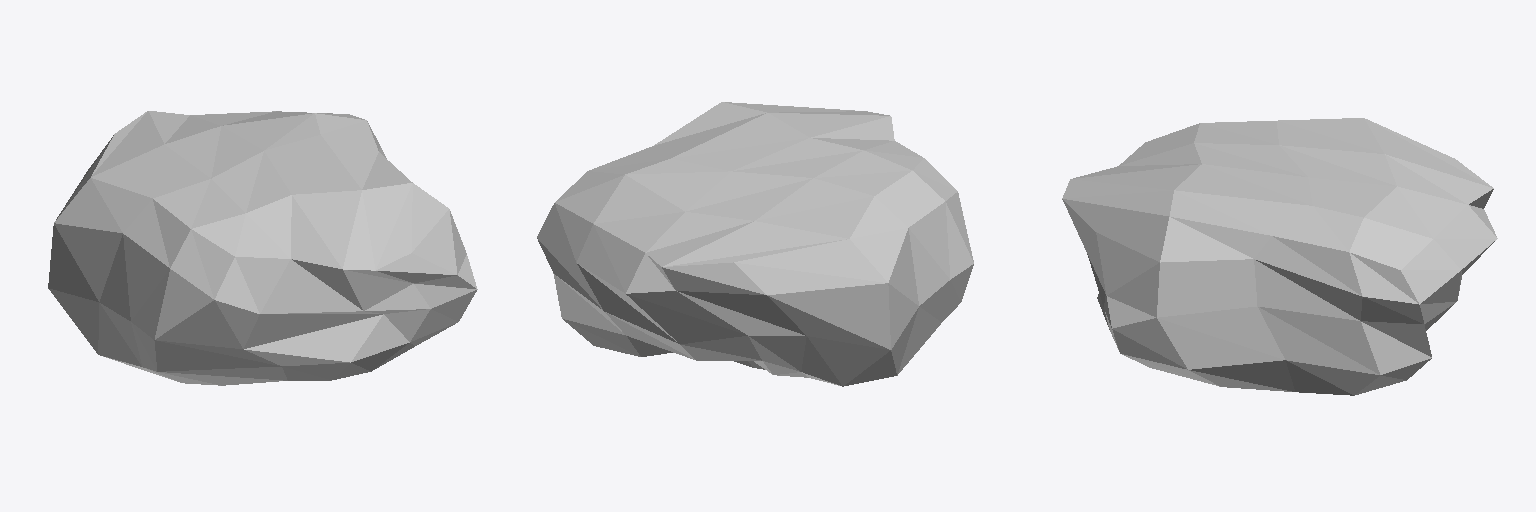
Rendered from rock.obj.
3 renders of one model, left to right at view 1: azimuth 30°, elevation 25°; view 2: azimuth 150°, elevation 25°; view 3: azimuth 270°, elevation 25°, orthographic.
Visible parts, largest first — view 1: Cube.001; view 2: Cube.001; view 3: Cube.001.
Part boxes in pixels (x1,y1,x2,y2): Cube.001: (48,111,477,385); Cube.001: (537,102,973,386); Cube.001: (1062,118,1497,395).
Bounding box in the file's own units: 0.7959 × 0.4209 × 0.9071.